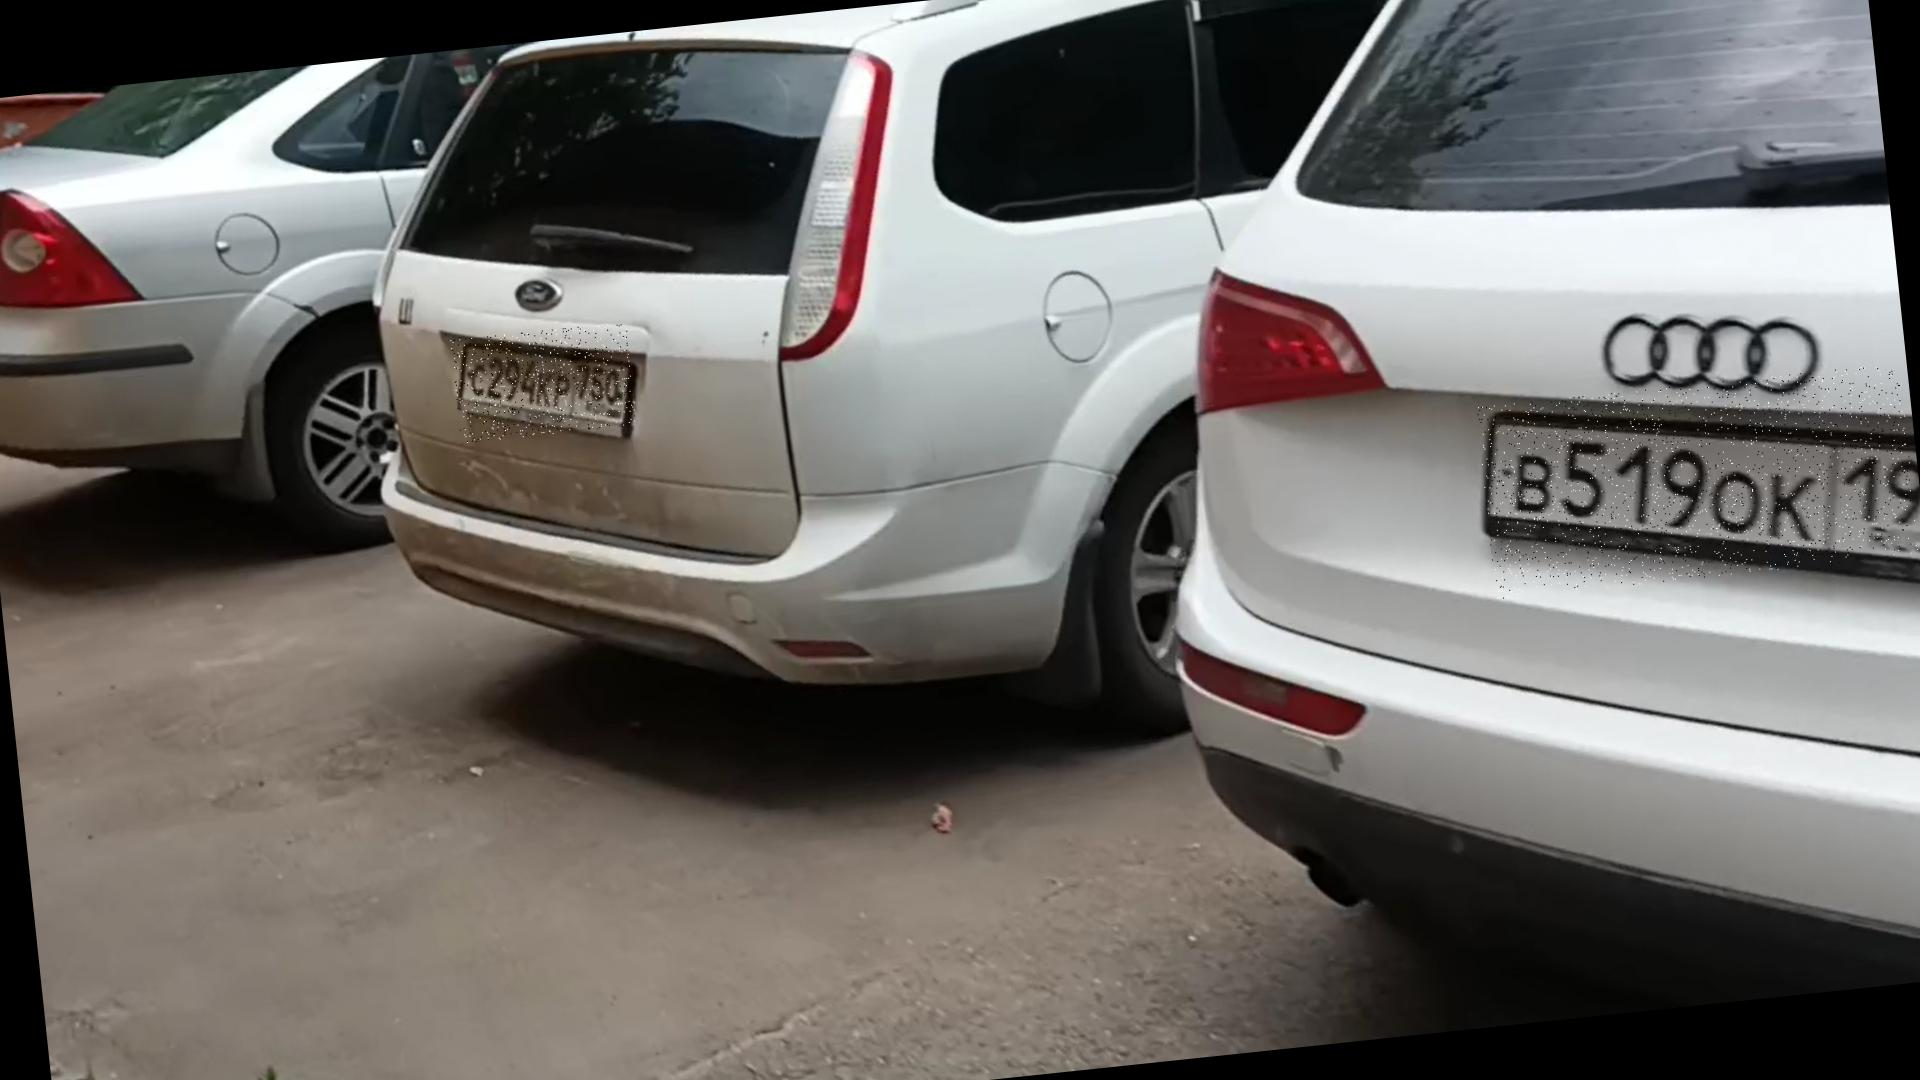plate: (1477, 364, 1920, 600), (452, 324, 639, 446)
